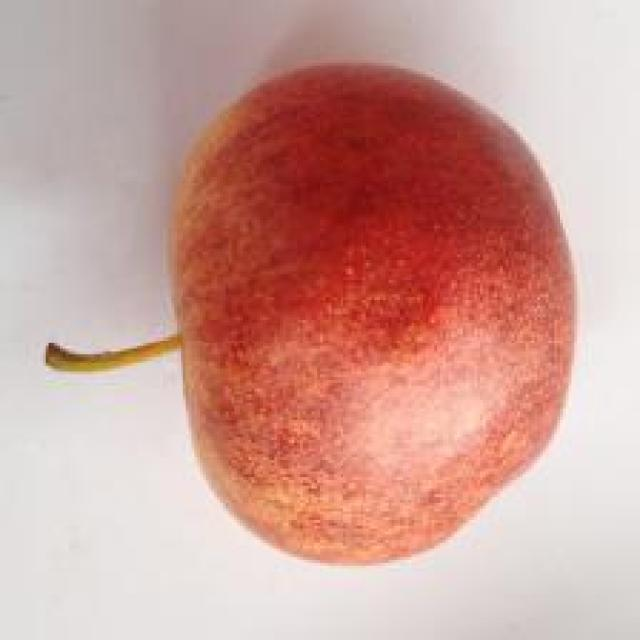apple: (30, 41, 606, 587)
